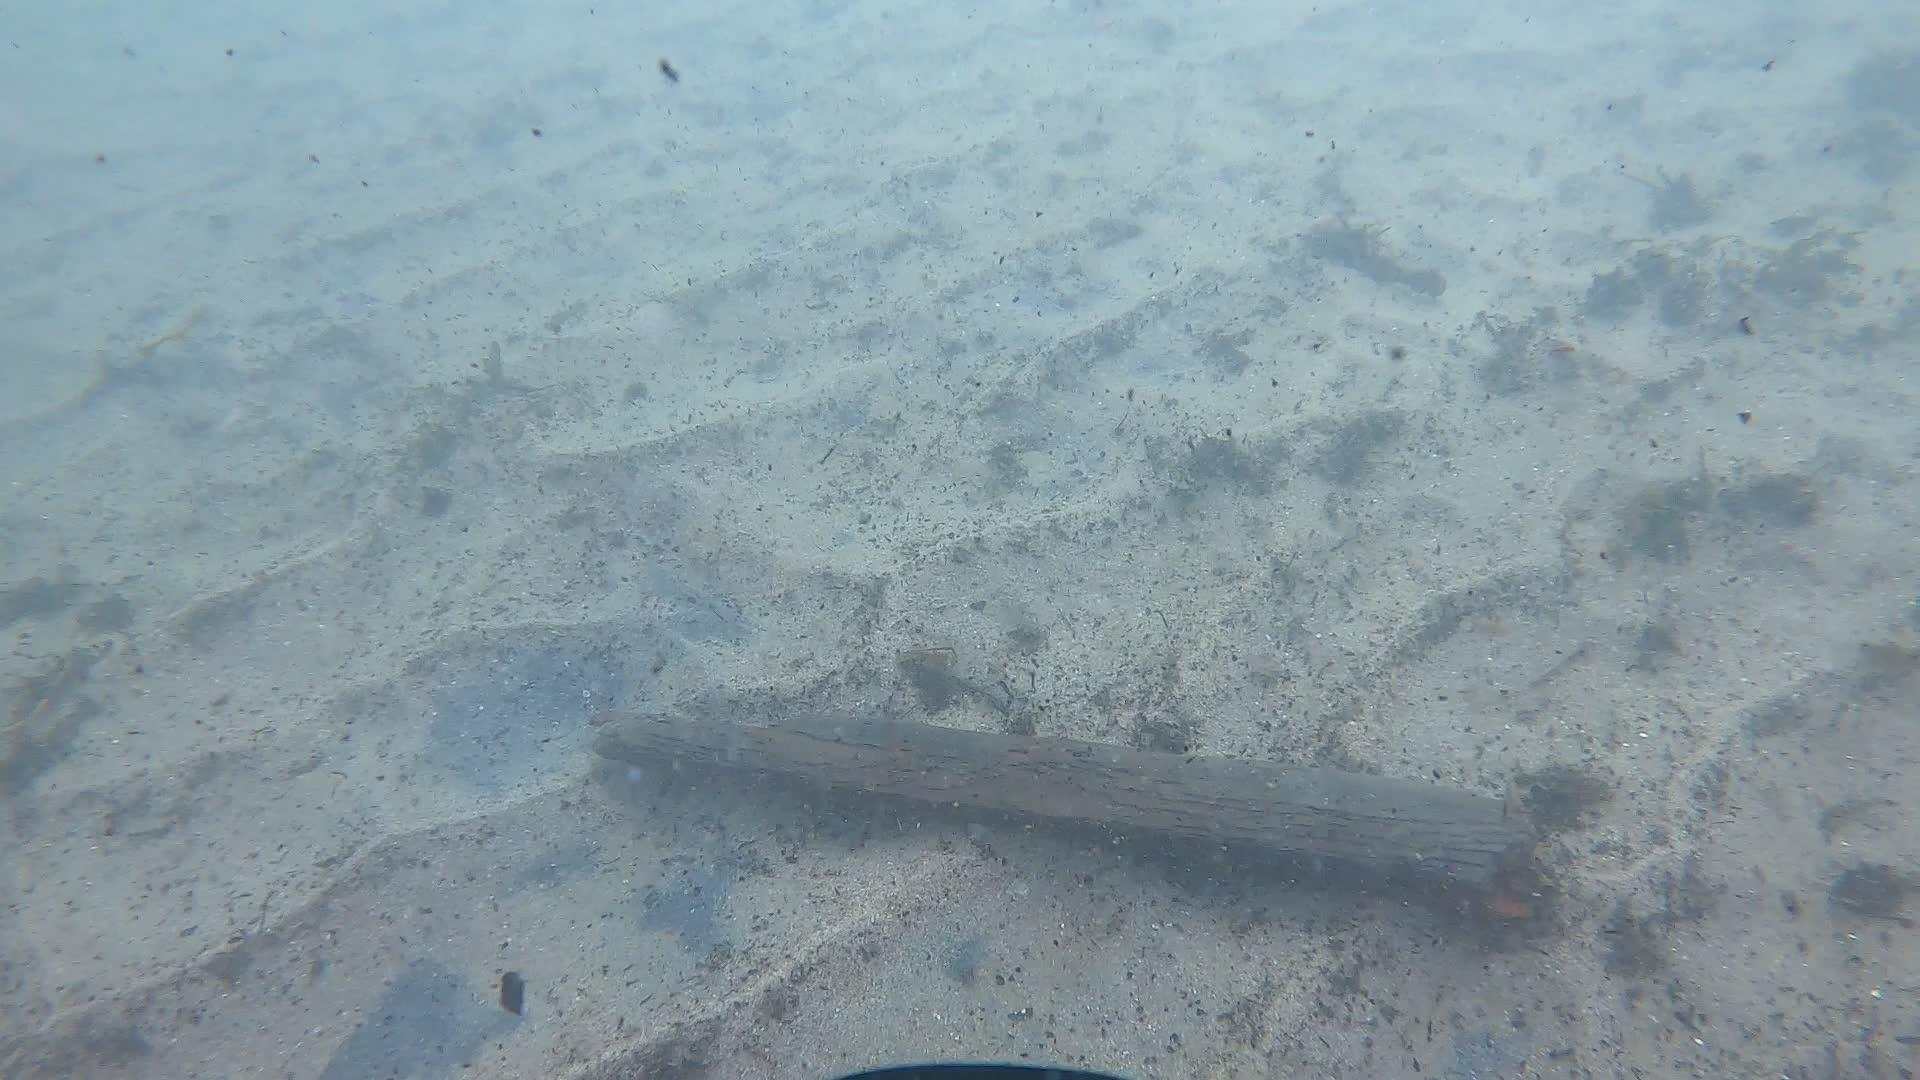wood: (589, 709, 1538, 894)
